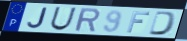9: (102, 9, 125, 34)
D: (147, 10, 178, 36)
F: (125, 11, 152, 34)
J: (26, 7, 48, 30)
R: (74, 7, 101, 33)
U: (49, 6, 78, 32)
